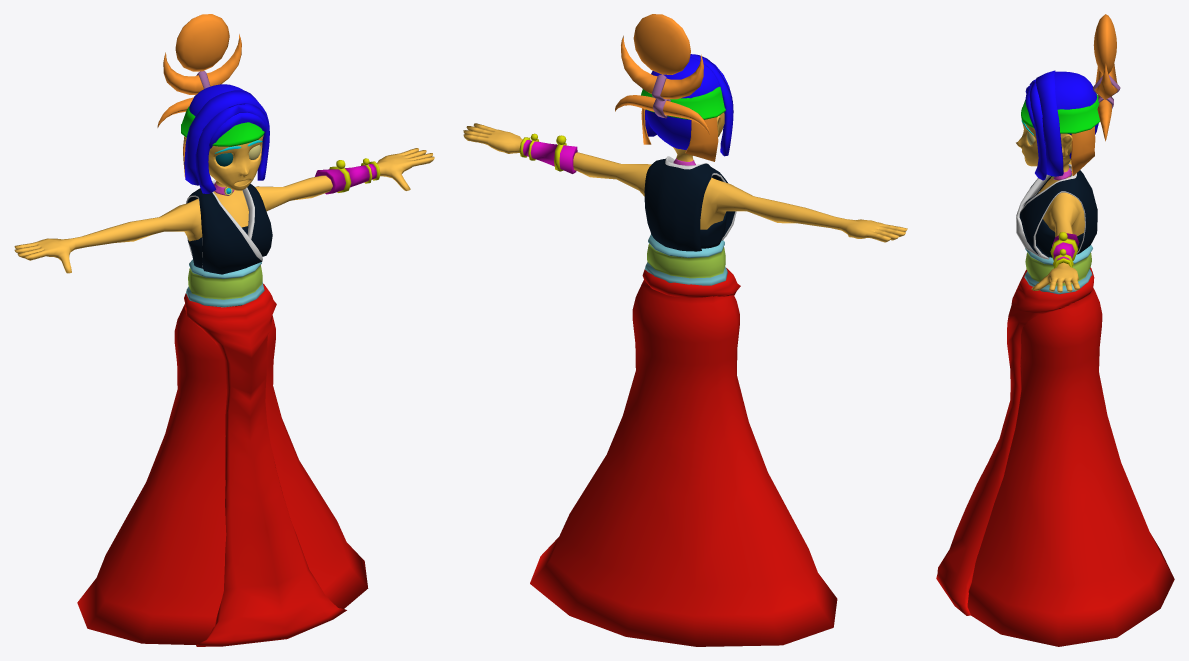
The model's file is Sacerdotiza.fbx.
The picture shows the model from 3 angles, left to right: view 1: azimuth 30°, elevation 25°; view 2: azimuth 150°, elevation 25°; view 3: azimuth 270°, elevation 25°; orthographic projection. The views are drawn at different scales.
Parts seen in each view (by area): view 1: Sacerdotiza; view 2: Sacerdotiza; view 3: Sacerdotiza.
Boxes of the visible parts, box(x1,y1,x2,y2) form: Sacerdotiza: box(14, 14, 434, 646); Sacerdotiza: box(463, 14, 907, 646); Sacerdotiza: box(936, 14, 1174, 646).
Size of the model in its own units: 130 by 168 by 64.72.
